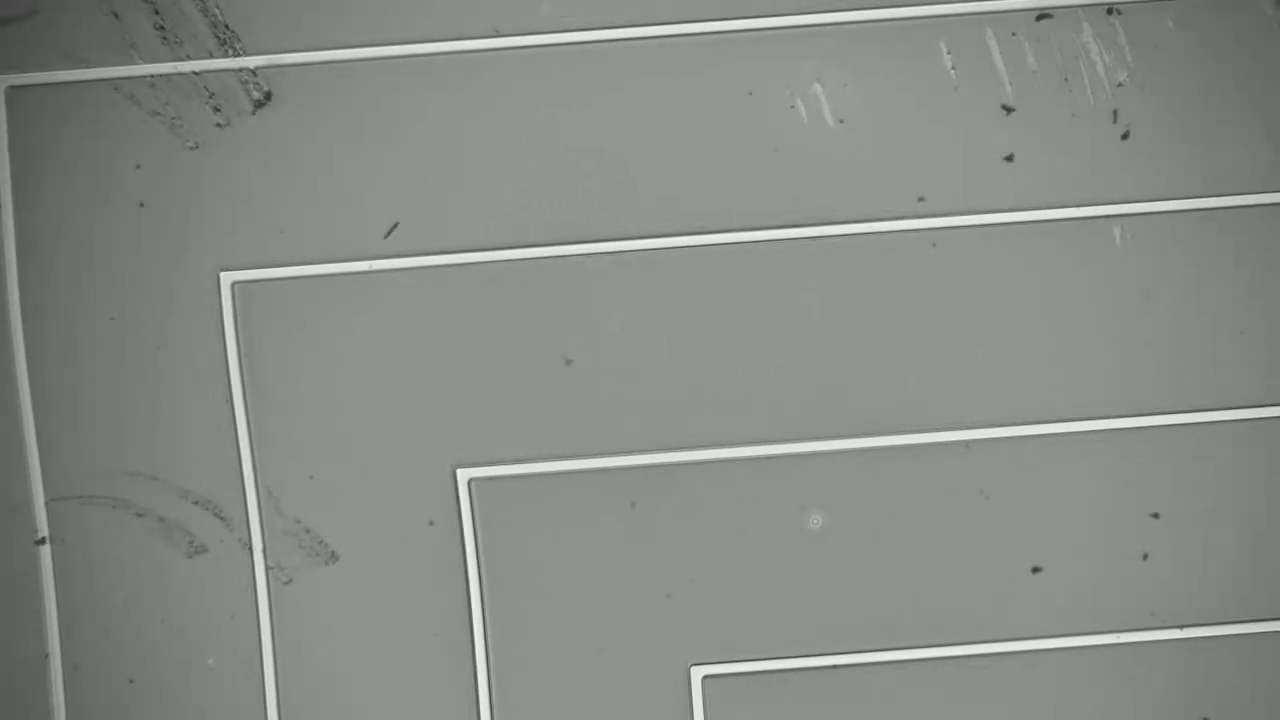scratch: (67, 1, 293, 141)
stains_enbedded: (25, 523, 60, 556)
